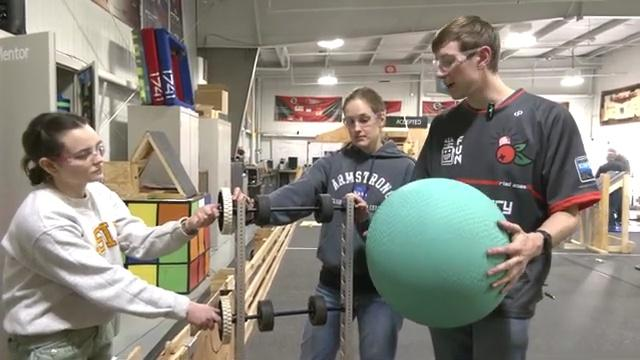ALGAE: (363, 175, 513, 329)
